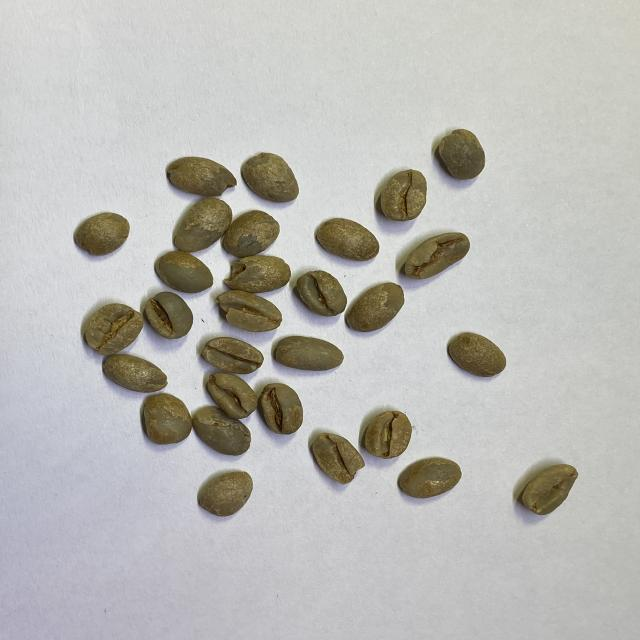bad: (400, 232, 470, 280), (519, 464, 579, 516), (311, 430, 364, 485), (215, 292, 283, 334), (84, 304, 142, 352), (224, 255, 290, 293), (205, 374, 257, 418)
good: (165, 156, 239, 200), (172, 198, 232, 251), (343, 282, 405, 333), (242, 151, 302, 203), (193, 406, 251, 457), (316, 216, 380, 262), (141, 391, 193, 444), (448, 331, 506, 378), (436, 127, 486, 180), (379, 167, 427, 221), (272, 335, 344, 371), (223, 210, 279, 256), (200, 469, 254, 516), (398, 458, 461, 498), (102, 354, 168, 392), (364, 408, 412, 460), (143, 292, 194, 340), (75, 212, 130, 256), (201, 337, 264, 375), (296, 271, 348, 317), (155, 251, 213, 292), (259, 383, 304, 434)
